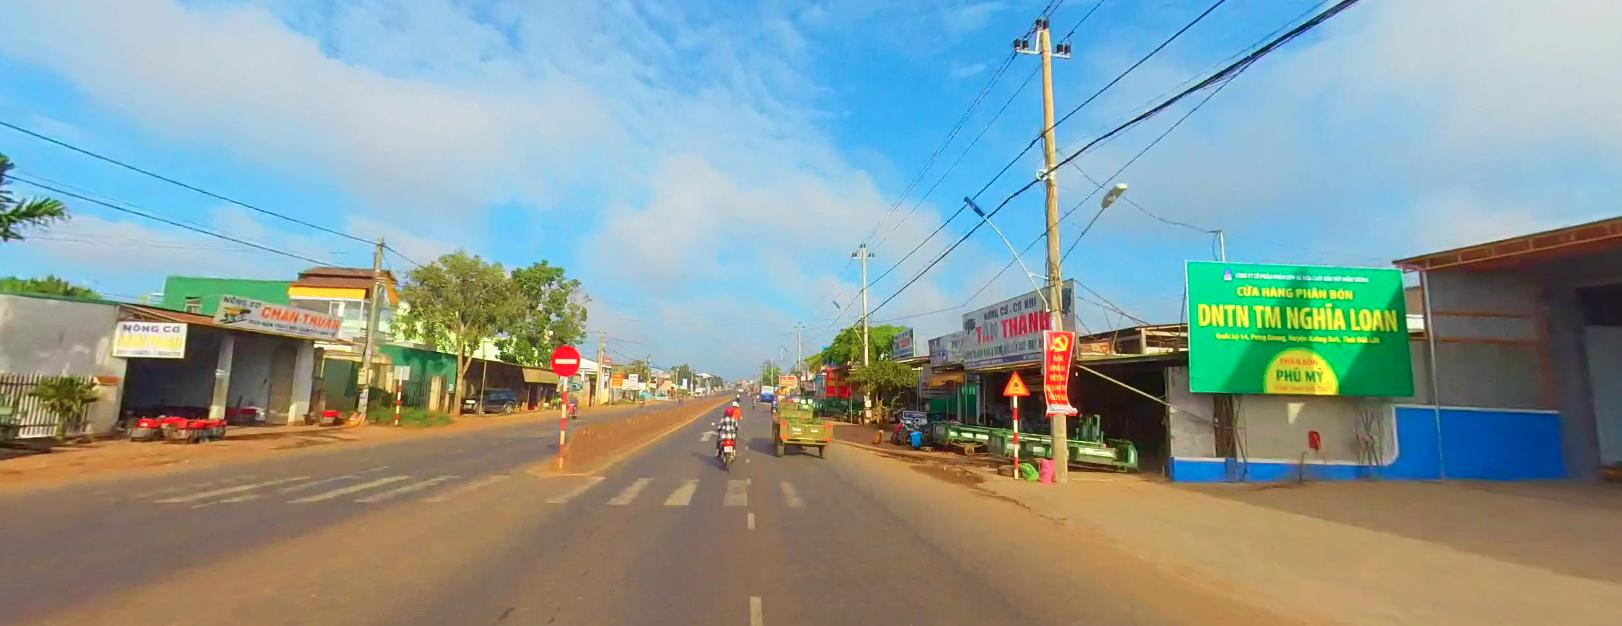Cam nguoc chieu: (550, 342, 581, 375)
